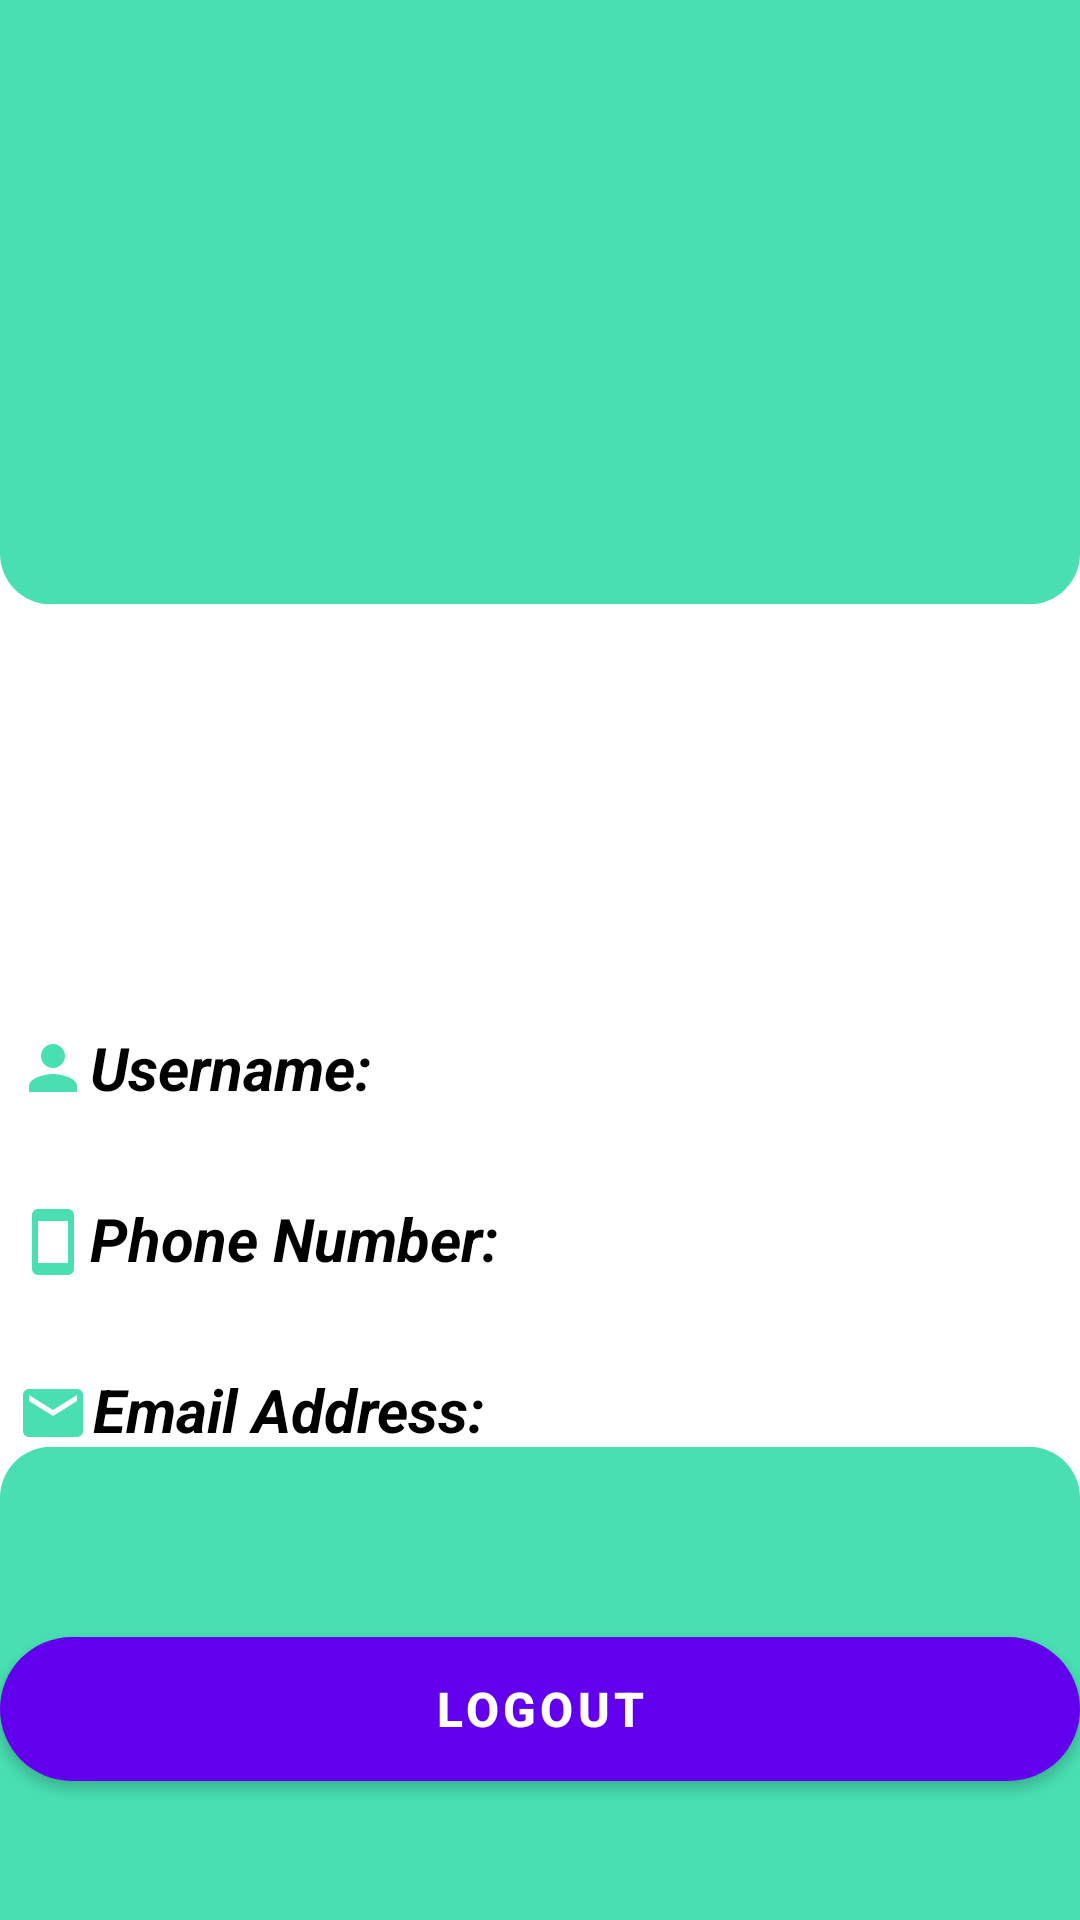

Where to tap for icons on this 1080 × 1920 app screen, as point (x, y):
person: point (53, 1068)
